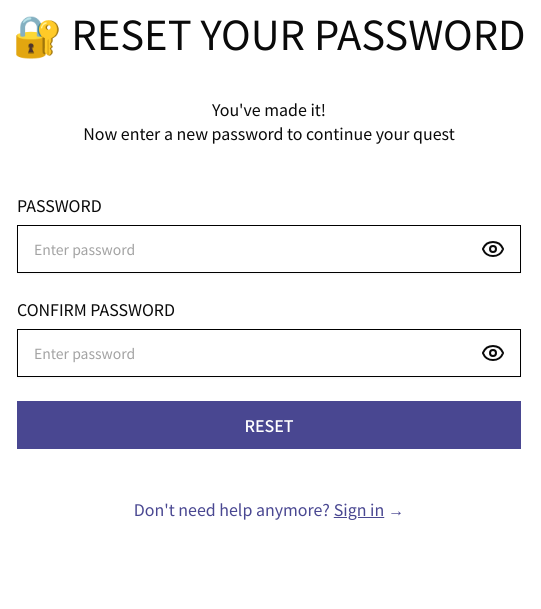
Scenario: ResetPassword Page › Form Validation › shows validation error for password without letters and numbers
Type "12345678" into the password field labelled "Password".
click(269, 249); type("12345678")  # box [17, 225, 521, 273]
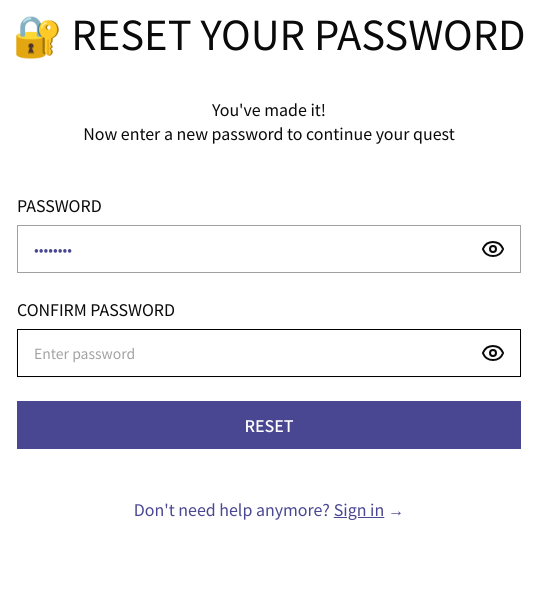
Click the button "RESET".
click(269, 425)  # box [17, 401, 521, 449]
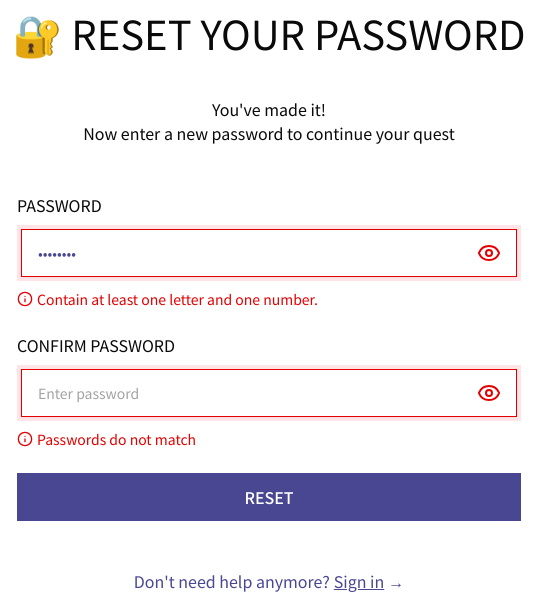
Expected: the text "Contain at least one letter and one number." is shown, [37, 289, 318, 309]
